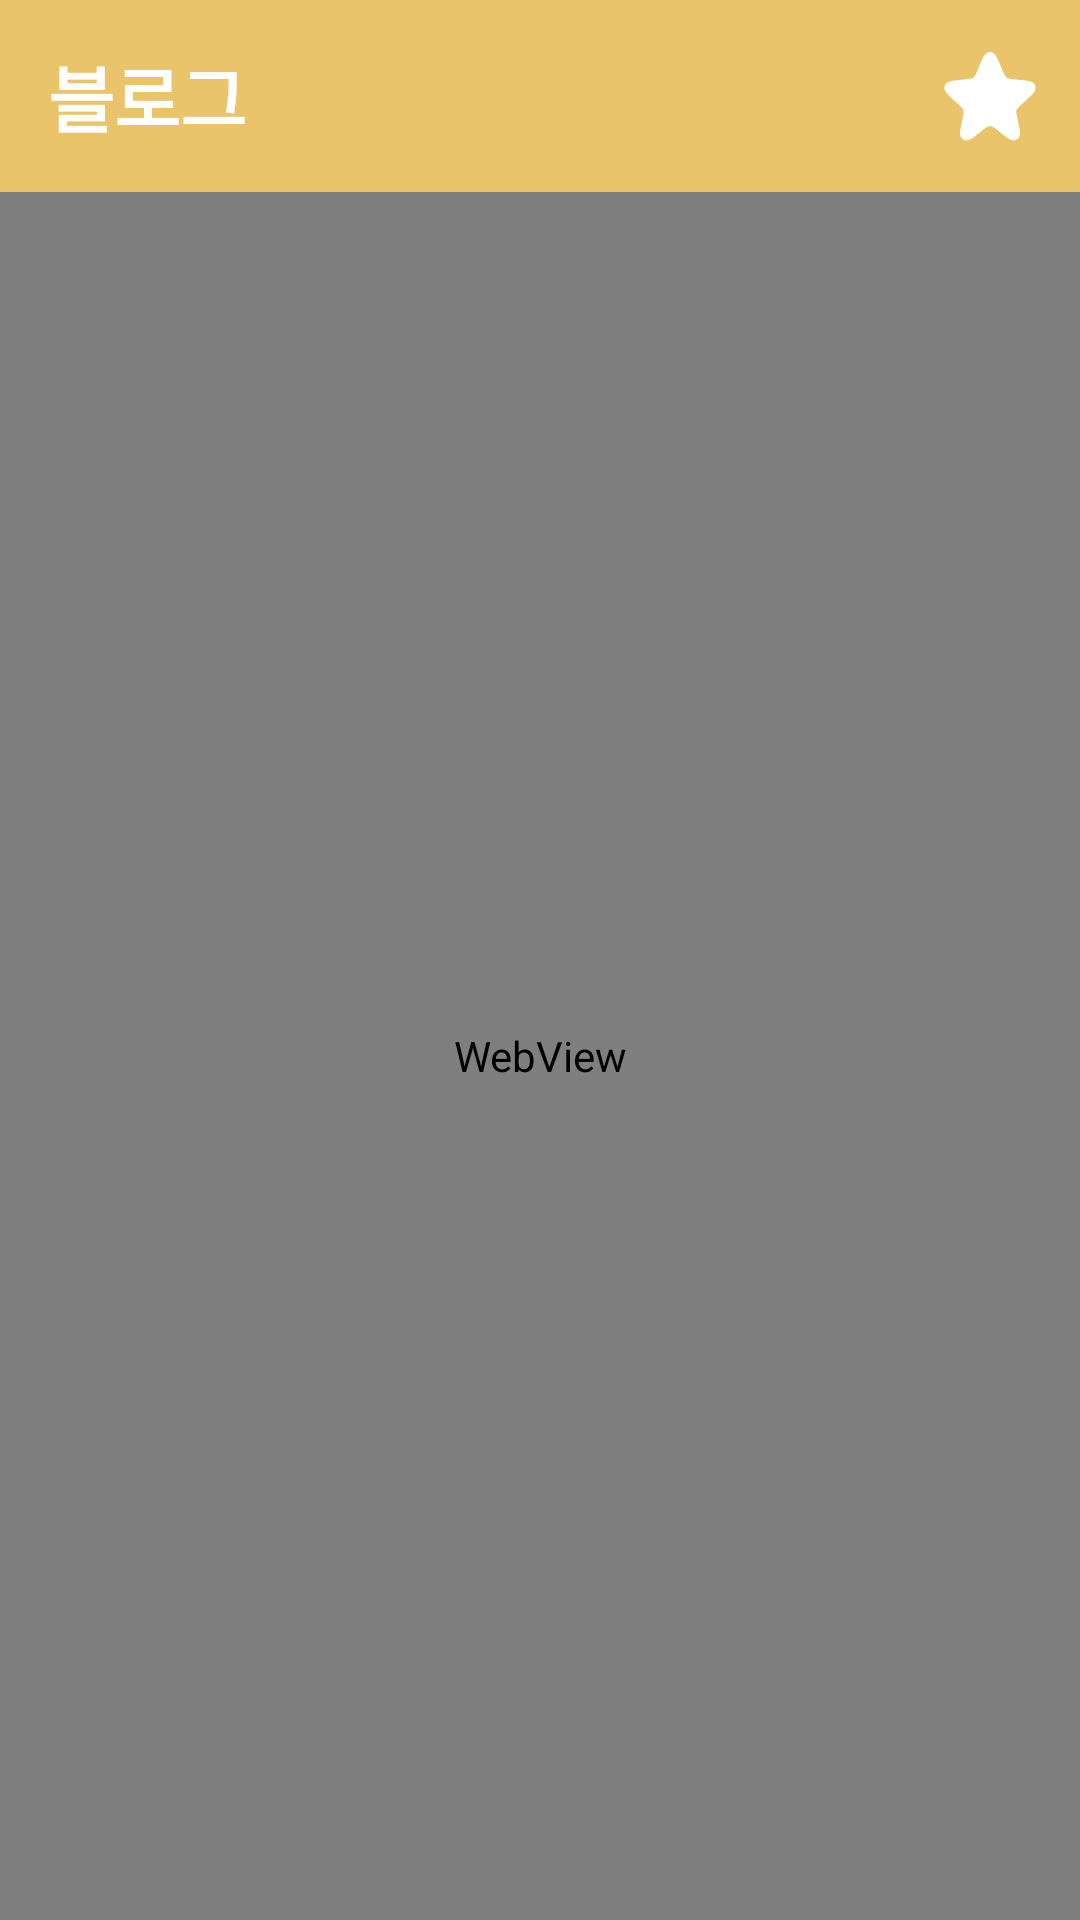

Where to tap for icons on this 1080px×1920px app screen, as point (x, y):
star: point (990, 96)
